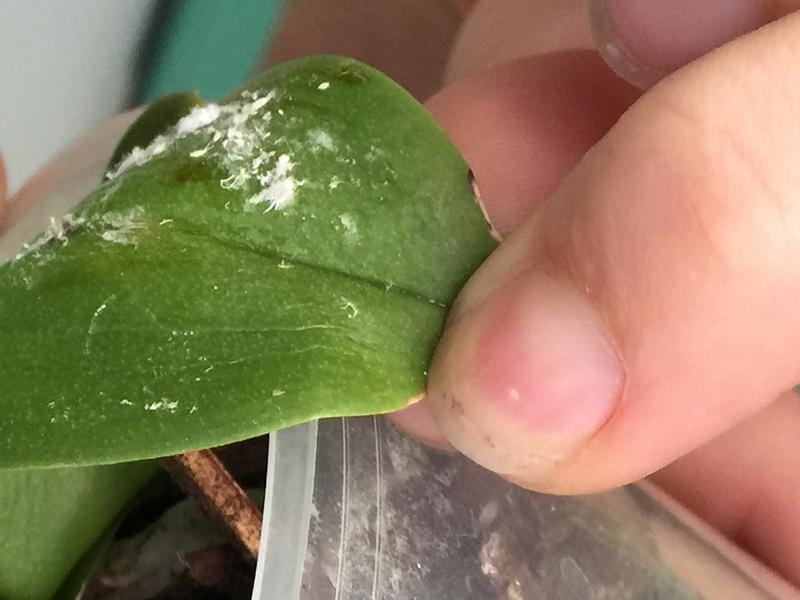Mealy_bug: (84, 76, 326, 269)
